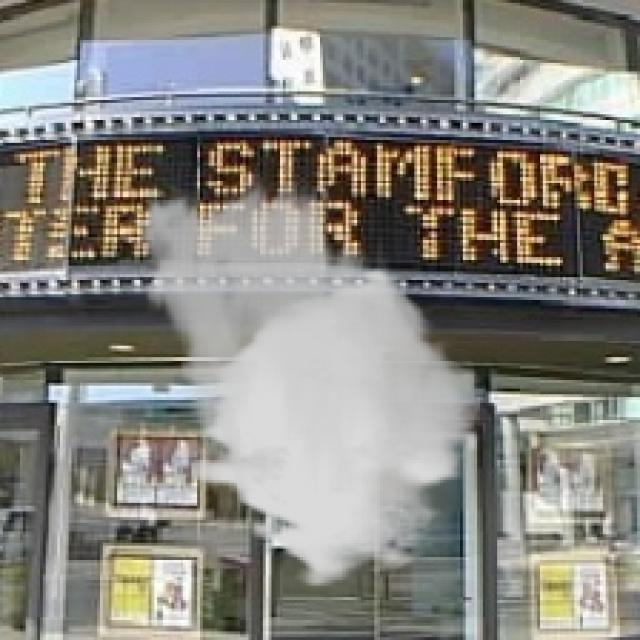Smoke: (123, 172, 480, 588)
